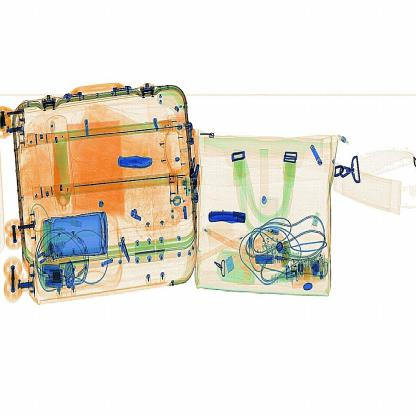knife: (205, 210, 251, 226)
